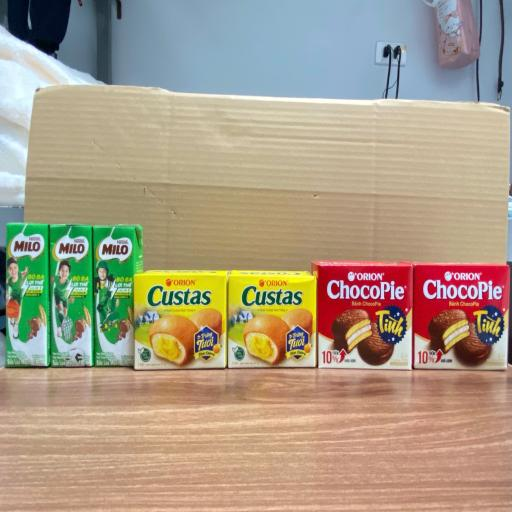chocopie: (312, 260, 413, 370), (412, 262, 510, 371)
custas: (134, 269, 229, 371), (228, 270, 316, 368)
milo: (93, 224, 144, 368), (49, 224, 94, 368), (6, 222, 50, 368)
